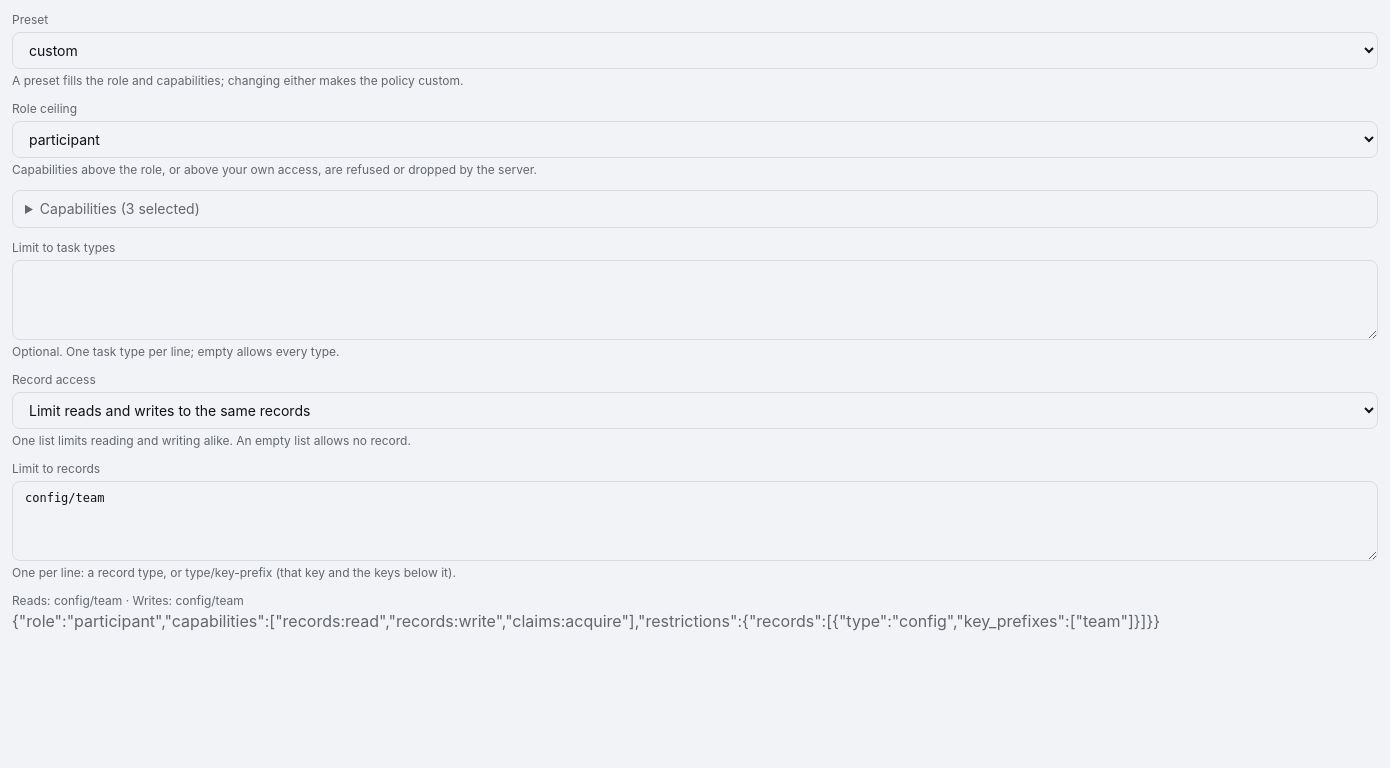
Test: PolicyFields › carries the same list to both sides when records are limited separately
The width and height of the screenshot is (1390, 768).
Select "Limit reads and writes separately" in the dropdown labelled "Record access". click: (695, 410)
box: [12, 392, 1378, 429]
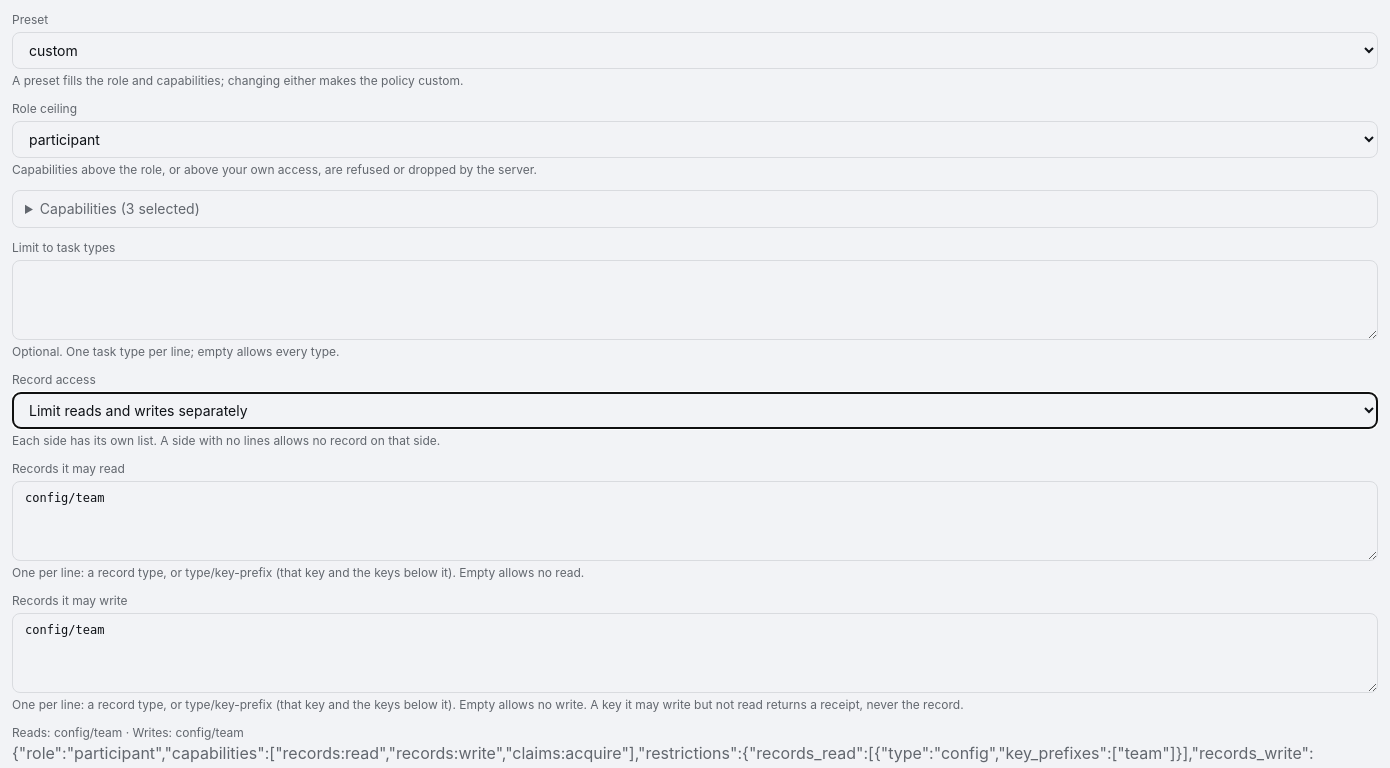
expect the text box labelled "Records it may read" holds "config/team": met, box [12, 481, 1378, 561]
expect the text box labelled "Records it may write" holds "config/team": met, box [12, 613, 1378, 693]
